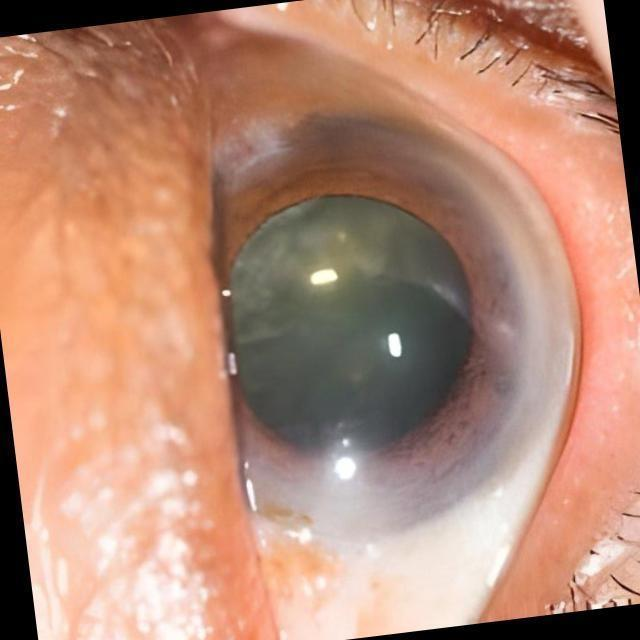Cataract: (188, 78, 588, 535)
